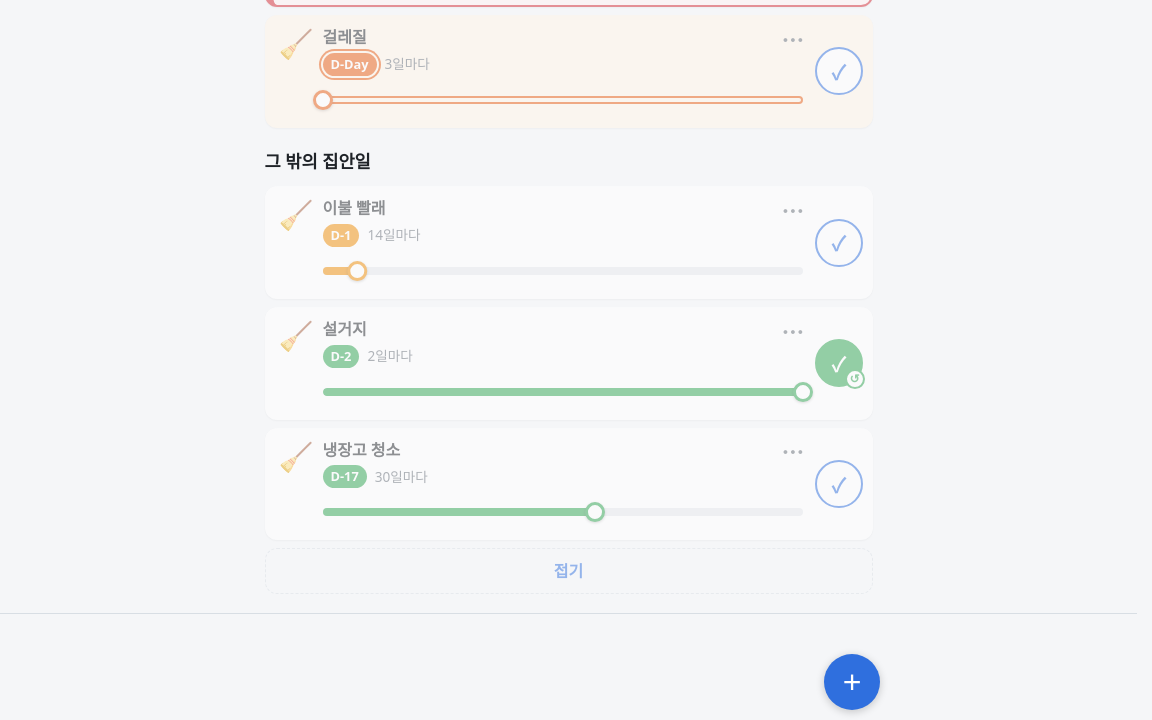
완료 체크 (F3) › 오늘 완료 취소 (U6) › 실행 취소(다시 완료)에 실패하면 완료 취소한 상태로 되돌리고 오류를 알린다
(page scrolled)
Click the button "✓ ↺": (838, 363) [814,339,862,387]
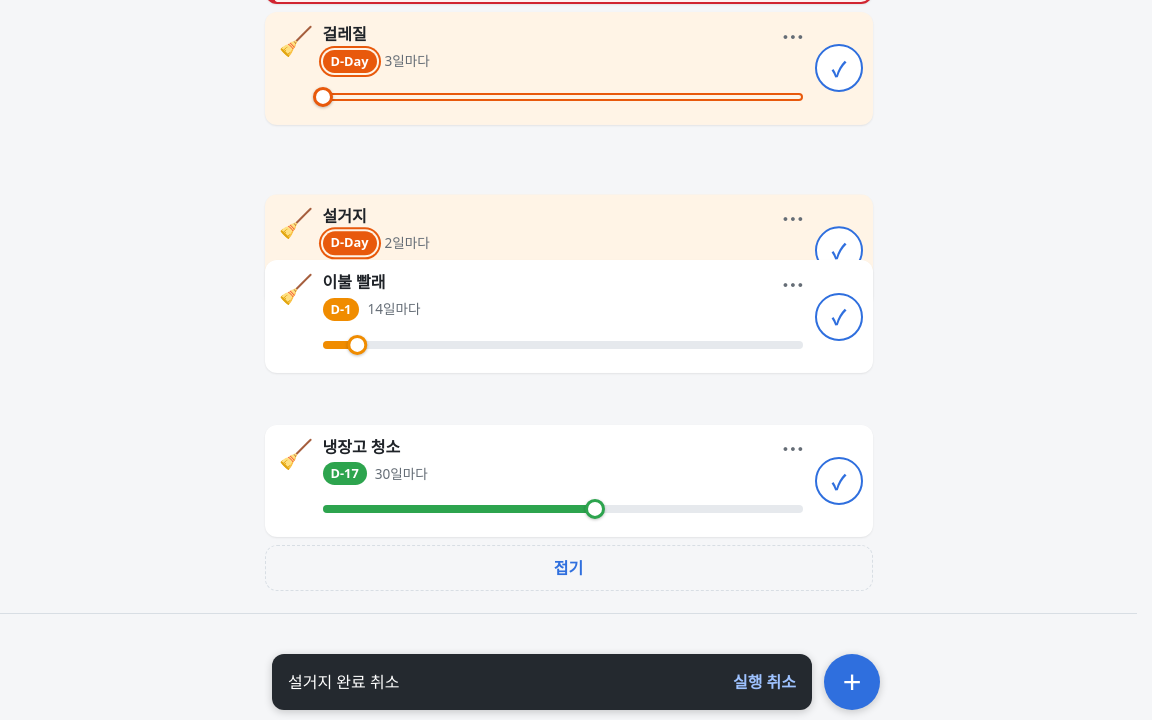
Click the button "실행 취소": (764, 682) [721,660,808,704]
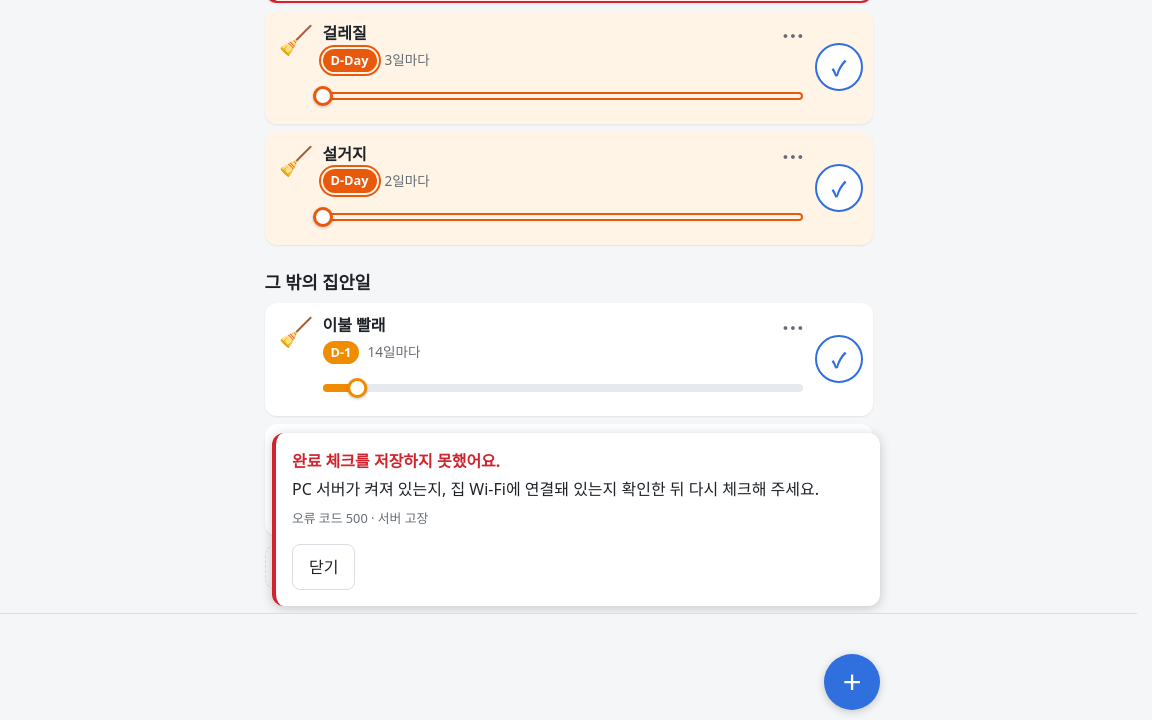
Expected: the 1st text "D-Day" is shown, [330,50,369,70]
Now the text with class "error-notice__title" reads "완료 체크를 저장하지 못했어요.", box [292,450,500,472]
